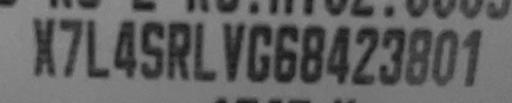letter: (56, 14, 86, 85), (28, 15, 58, 80), (111, 15, 141, 80), (82, 17, 112, 82), (404, 23, 434, 86), (350, 24, 380, 87), (431, 27, 461, 88), (166, 17, 194, 82), (245, 21, 273, 84), (272, 21, 300, 84), (298, 21, 326, 84), (378, 25, 406, 88), (218, 21, 244, 84), (324, 21, 350, 84), (458, 25, 484, 88), (138, 19, 164, 80), (192, 21, 218, 82)
